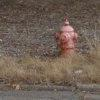Hydrant: (47, 12, 92, 75)
